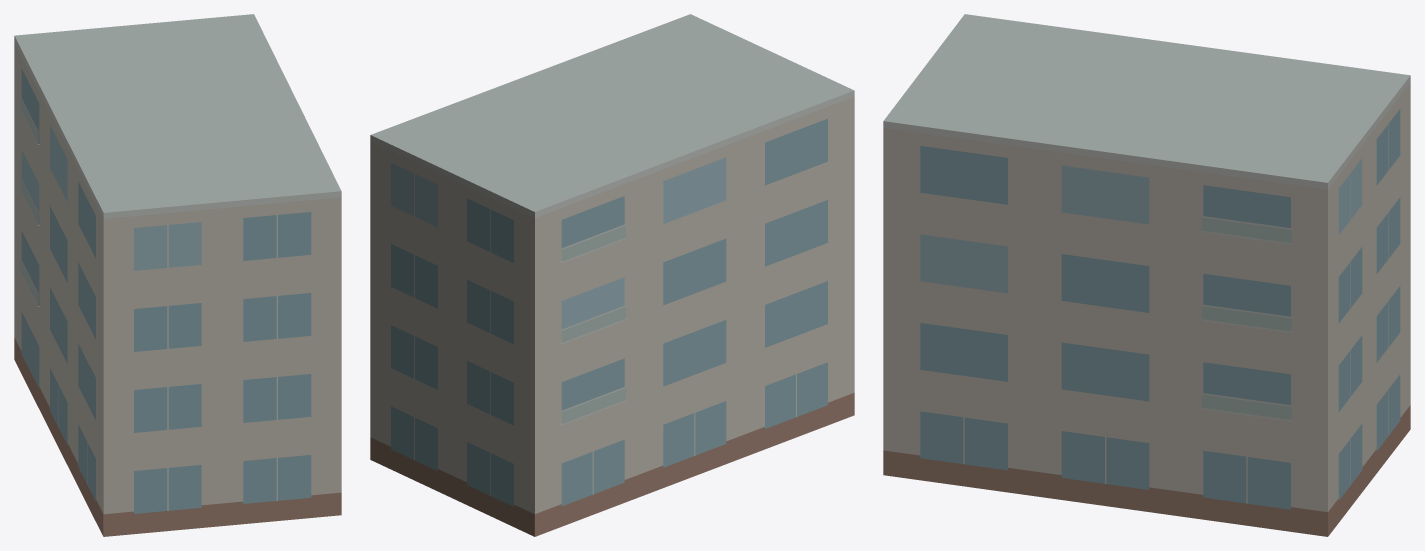
File: survey-upis-32559722.glb
3 renders of one model, left to right at view 1: azimuth 30°, elevation 25°; view 2: azimuth 150°, elevation 25°; view 3: azimuth 270°, elevation 25°, orthographic. The views are drawn at different scales.
Parts seen in each view (by area): view 1: survey-upis-32559722.tmp; view 2: survey-upis-32559722.tmp; view 3: survey-upis-32559722.tmp.
Boxes of the visible parts, box(x1,y1,x2,y2) form: survey-upis-32559722.tmp: box(14, 14, 341, 536); survey-upis-32559722.tmp: box(370, 14, 854, 536); survey-upis-32559722.tmp: box(883, 14, 1410, 536).
Bounding box in the file's own units: 13.31 × 13 × 17.56.
